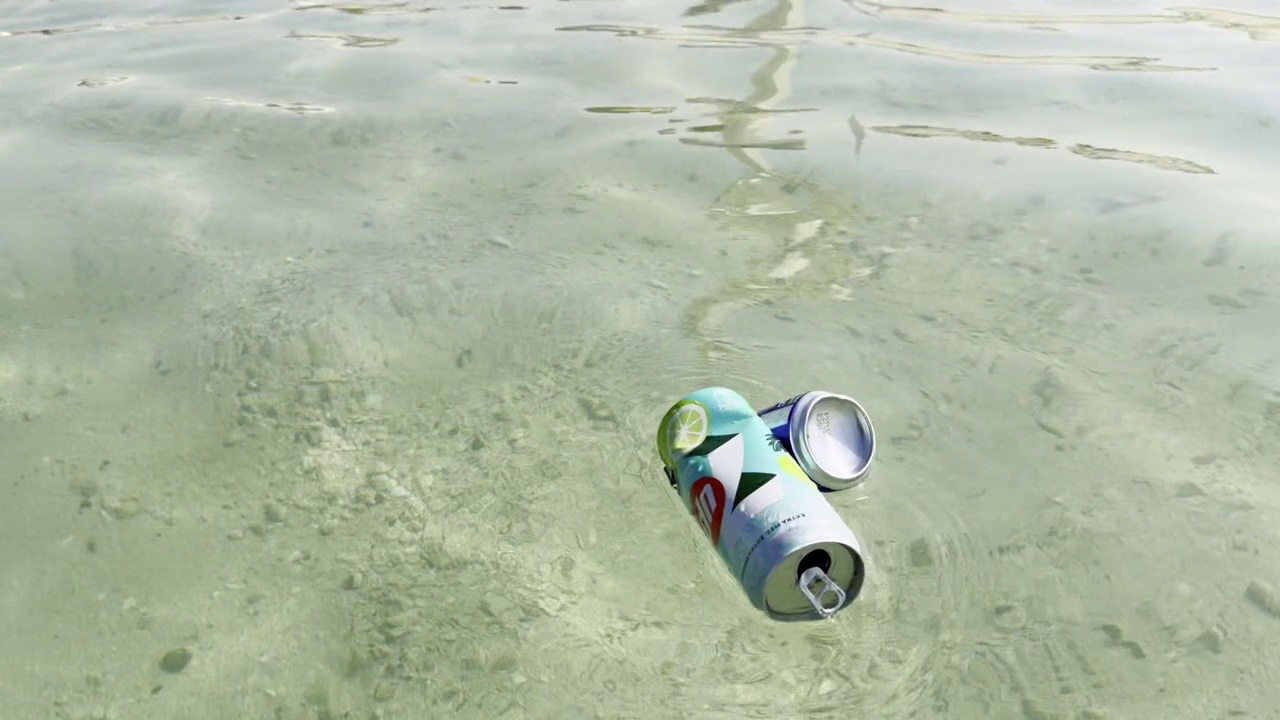debris: (648, 372, 869, 632), (738, 386, 884, 497)
